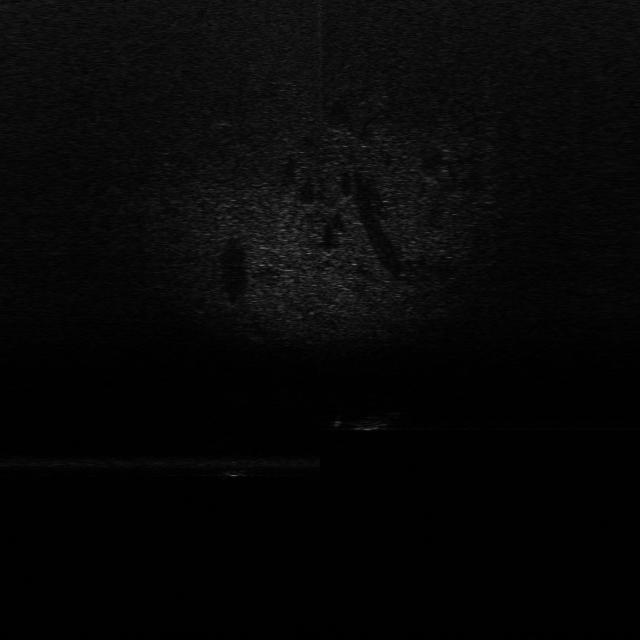ball: (220, 454, 248, 480)
human body: (328, 410, 403, 433)
